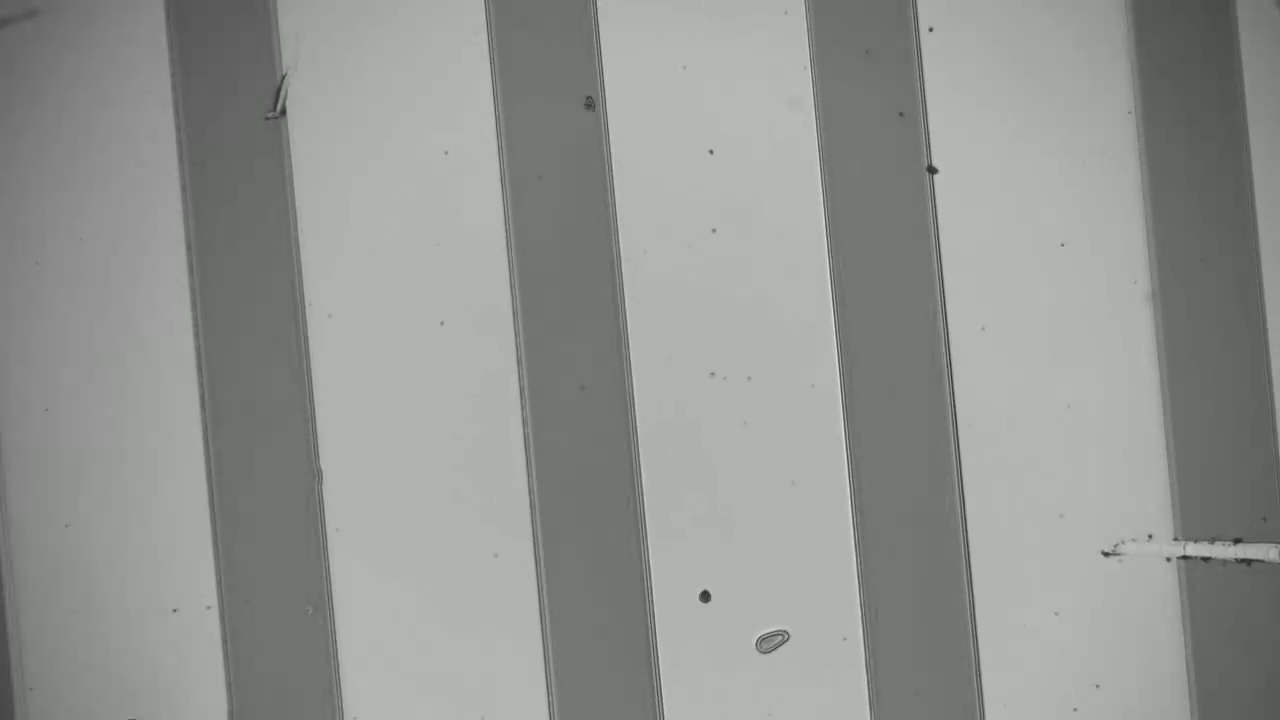Short_circuit: (1154, 516, 1280, 586)
